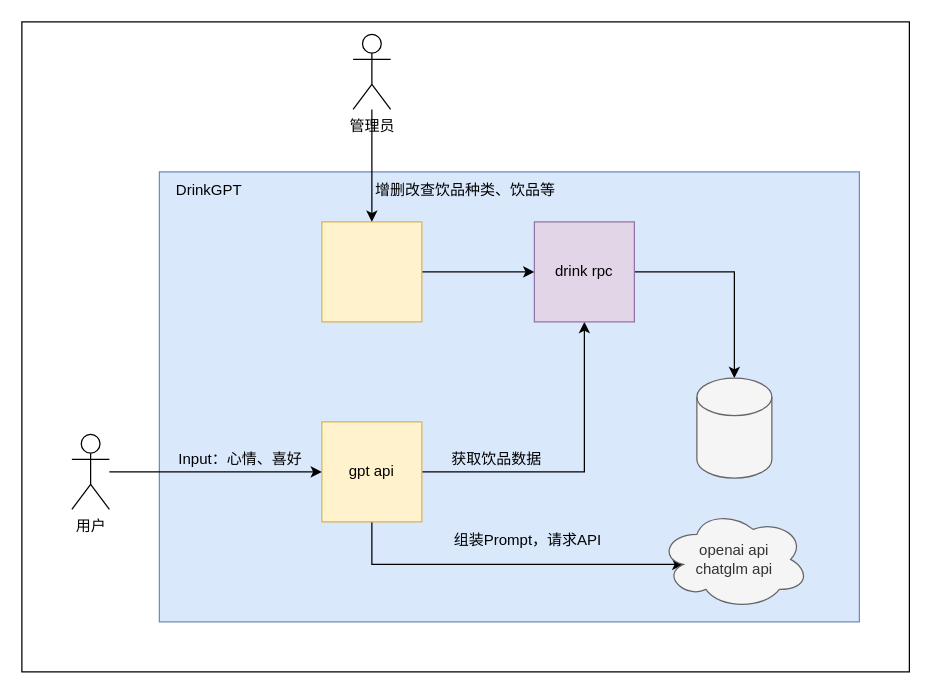
Some shapes in this 931 by 694 pixel diagram are drawn without their labels. The shapes that lost their labels are listed below. From the top down, each one's centre as x and y in pixels, then its label:
At (x=371, y=271): "drink api".
At (x=734, y=427): "Mysql".
